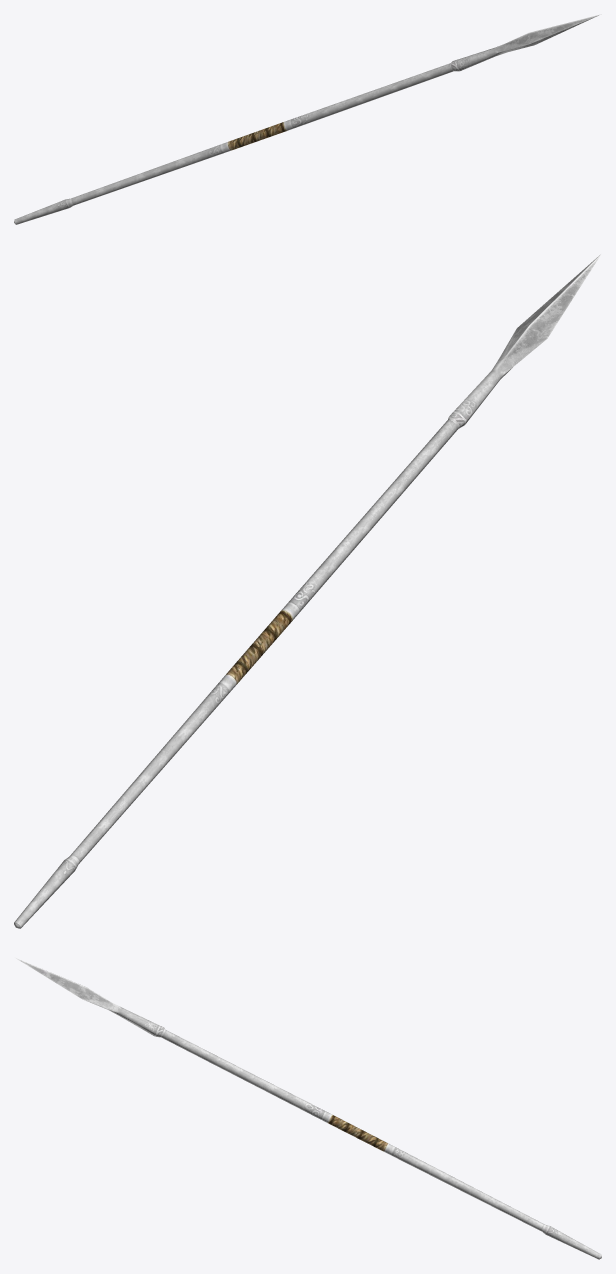
The model's file is rider-javelin-slice-base.glb.
3 views of the same model, one above another, from view 1: azimuth 90°, elevation 25°; view 2: azimuth 150°, elevation 25°; view 3: azimuth 270°, elevation 25° (orthographic). The views are drawn at different scales.
Size of the model in its own units: 0.482 by 1.22 by 2.53.
1 material, 1 textured.
